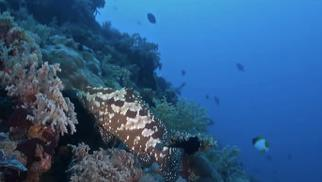Serranidae -Groupers-: (78, 79, 188, 182)
